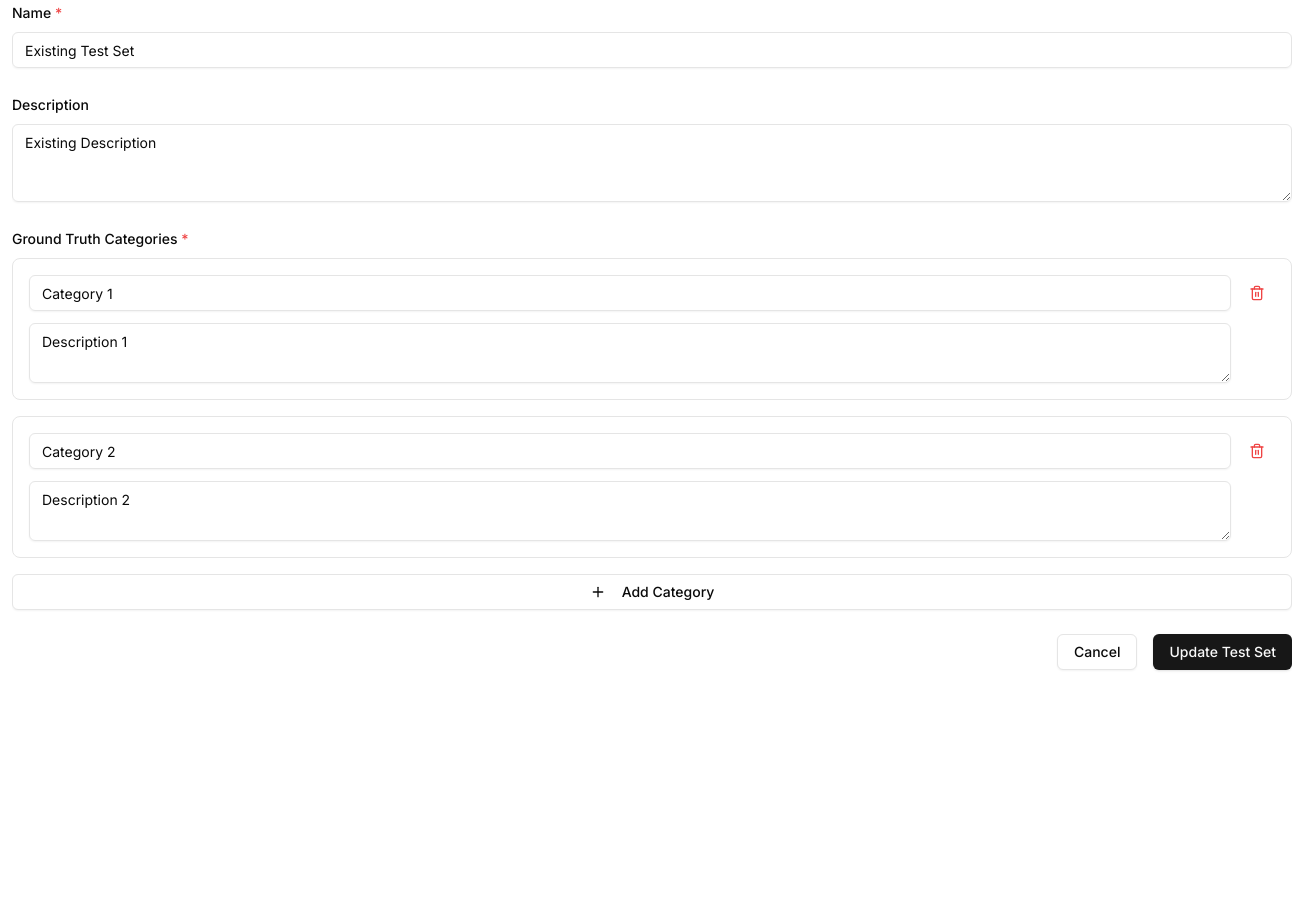
Test: TestSetForm - Edit Mode › shows "Updating..." text while submitting
The image size is (1304, 900).
What coordinates should you click on to do the following:
click the button "Update Test Set"
I would click on:
 (1223, 652)
Its box is [1154, 634, 1292, 670].
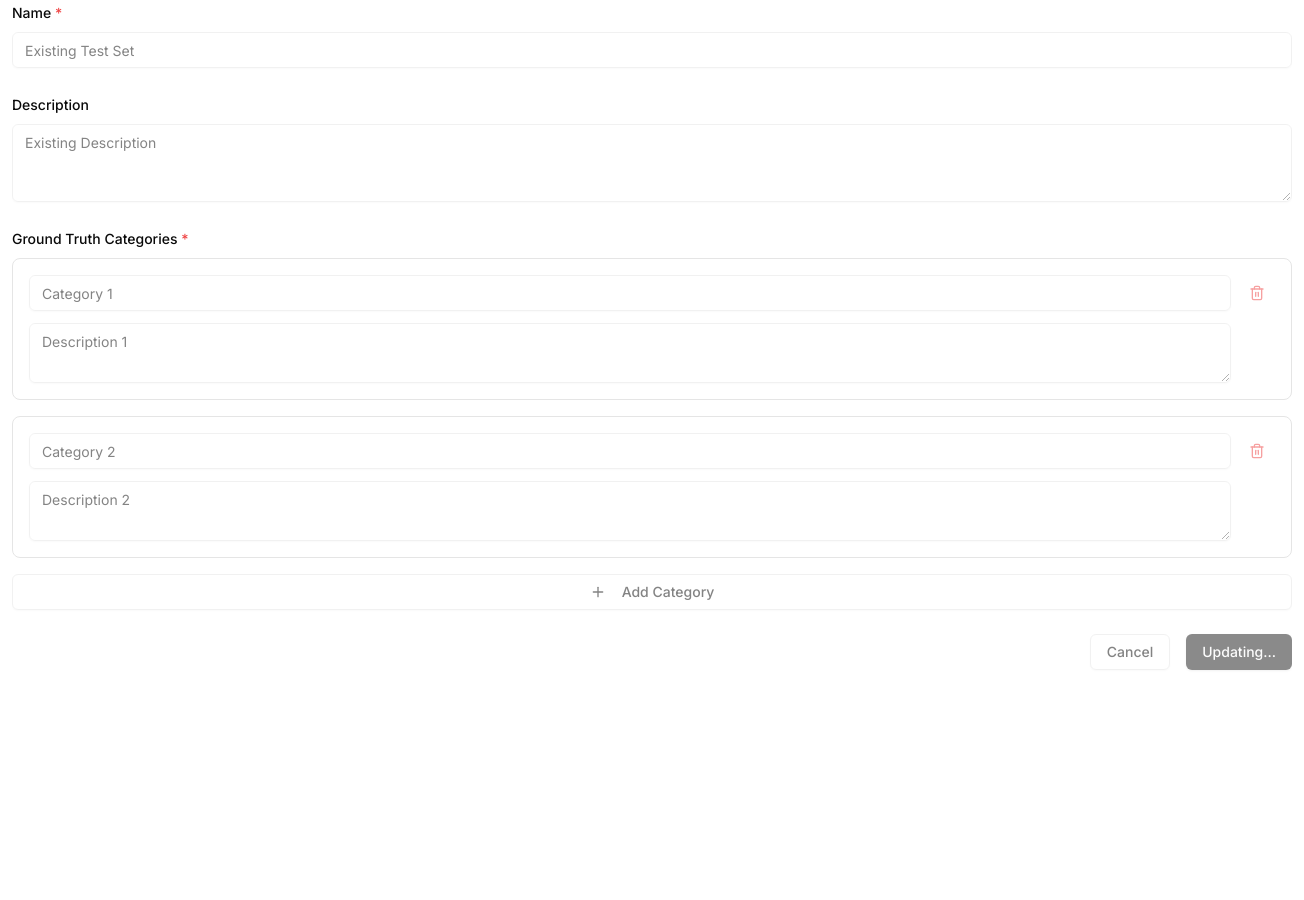
Result: the button "Updating..." is disabled at [1186, 634, 1292, 670]
